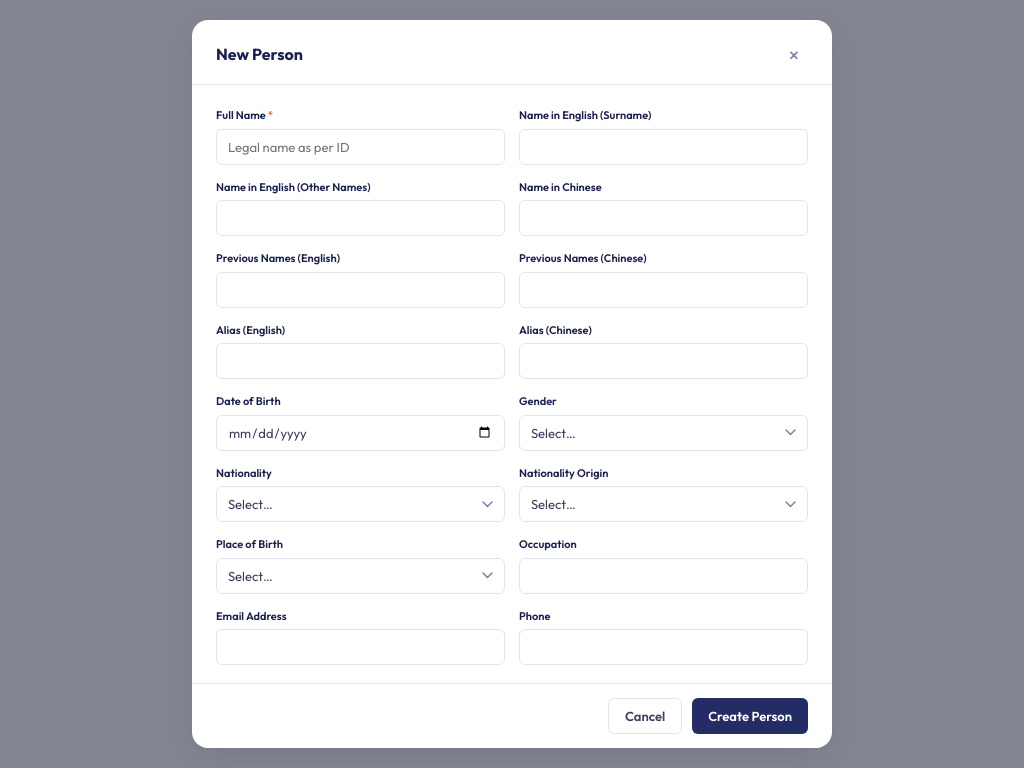
Test: AddPersonModal — discard guard (UAT F-1) › asks before discarding a filled form dismissed by backdrop click
In the field labelled "Full Name *": (360, 146) [216,128,505,164], type "Chan Tai Man"
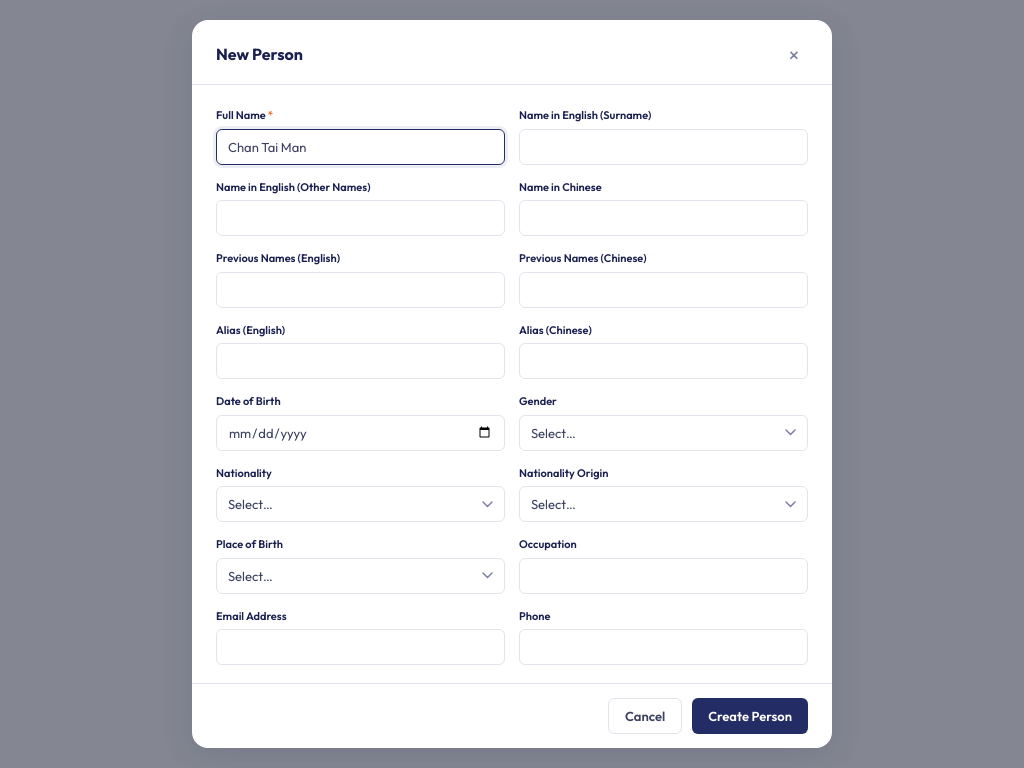
Click the element with class "overlay": (61, 384) [0,0,1023,767]
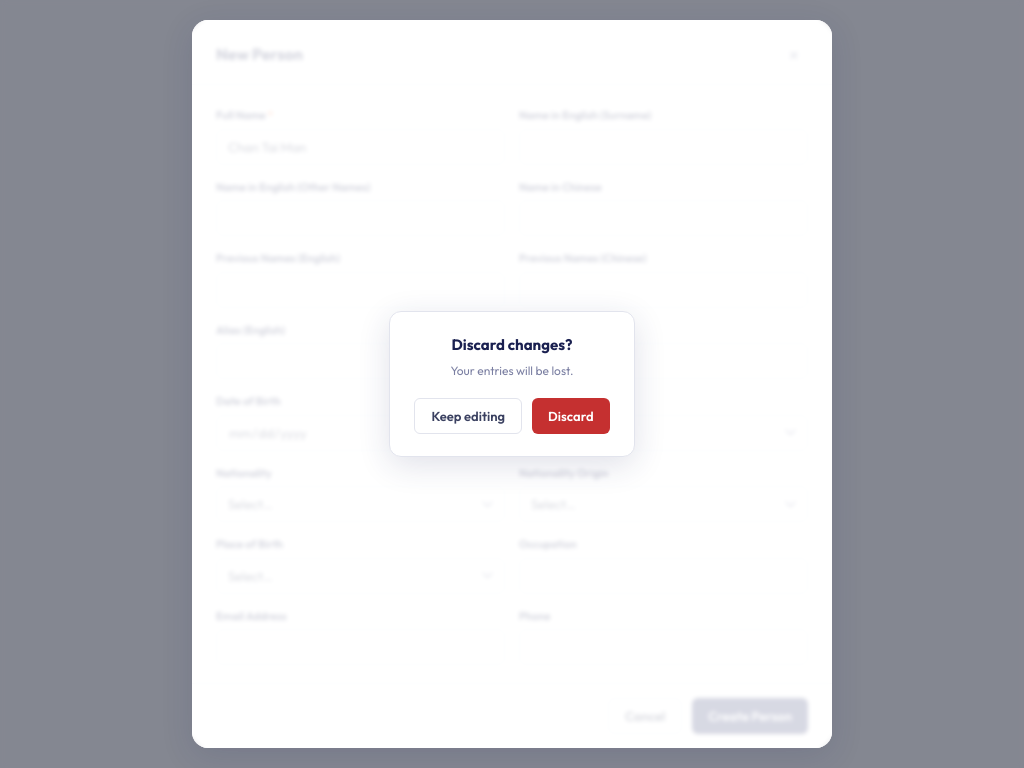
Expected: the text "Discard changes?" is shown, [451,335,572,354]
